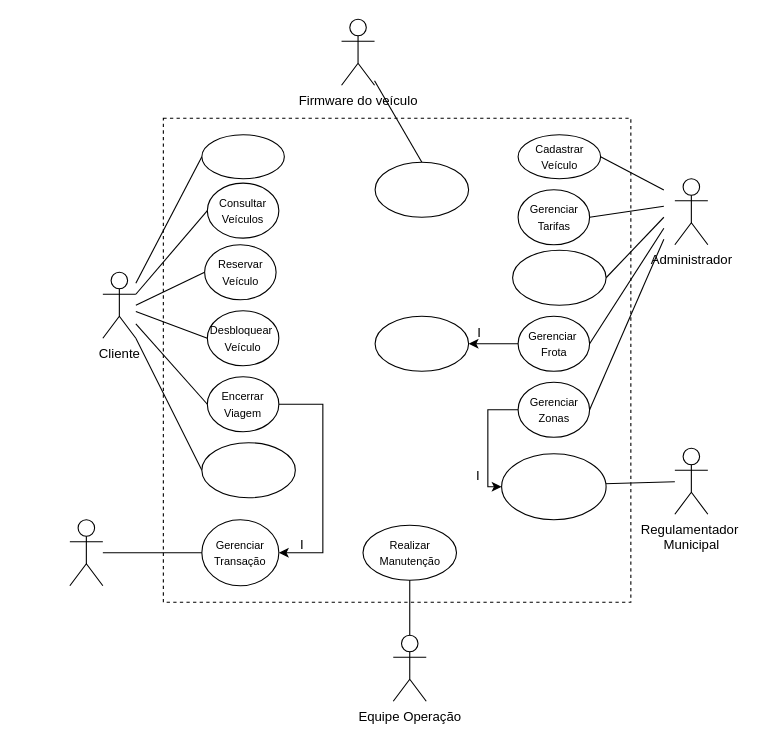
This 761x744 diagram has some shape labels left out. The centre of each missing label's shape, as x and y in pixels:
"Aplicar Limite de Velocidade" goes at point 421,189.
"Atualizar Regulamentações" goes at point 553,486.
"Cadastrar-se" goes at point 242,156.
"Emitir Relatório Consolidado" goes at point 559,277.
"Monitorar Veículos" goes at point 421,343.
"Sistema de pagamento" goes at point 86,552.
"Solicitar Desconto Acadêmico" goes at point 248,470.
